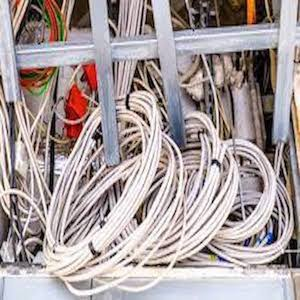combustible: (52, 93, 170, 267), (179, 114, 289, 255)
